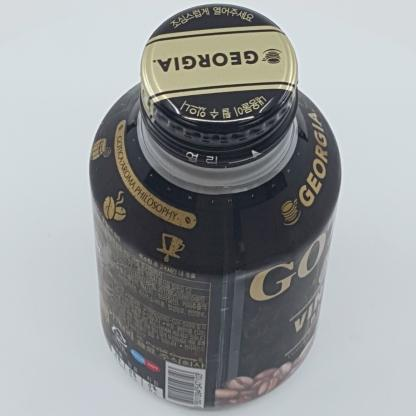---------------270ML: (89, 4, 342, 409)
